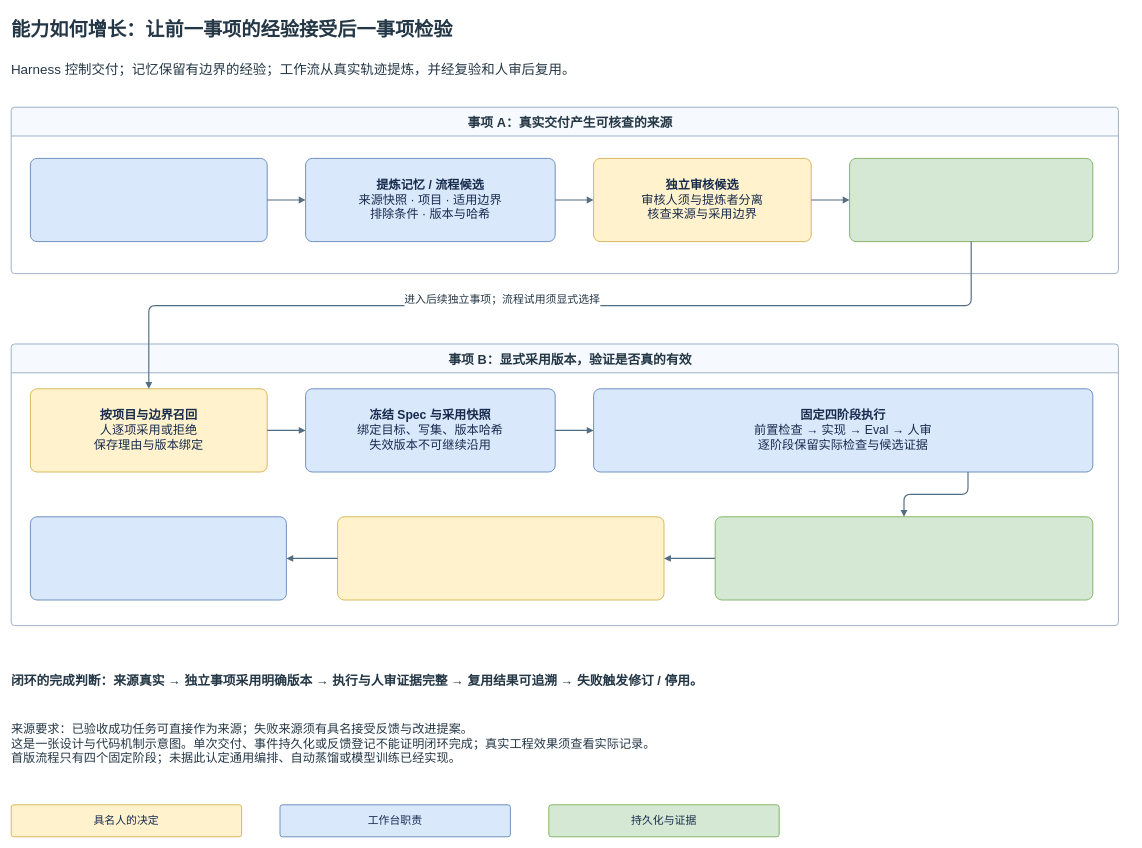
Image size: 1142x848. Some labels were removed from this diagram. Here are the shapes that lost their labels. From the top down, the centre of each, then its label:
At point (148, 200): "受控交付、失败与已接受反馈 保留任务、Spec、Diff、Eval 及实际人审或失败轨迹".
At point (971, 200): "可召回的版本 记忆已生效 流程经审核可试用".
At point (158, 558): "后续事项再次采用 继续检验适用性与交付效果 保留新事项与旧版本的关联".
At point (500, 558): "发布、修订或停用版本 流程试用通过后，由人具名发布 流程复用失败即停用；记忆可由人撤回".
At point (903, 558): "记录人审及实际采用结果 通过：具名验收 + 检查证据完整 失败：保留失败轨迹与原因".
